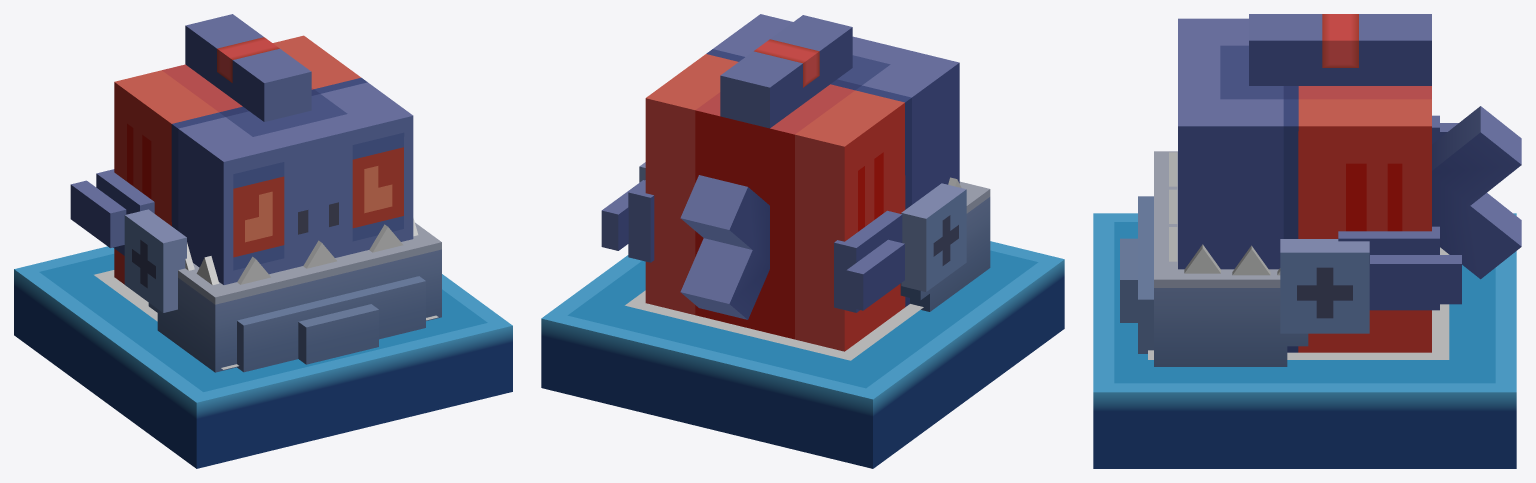
Rendered from Tower_Toes_LVL4.fbx.
The picture shows the model from 3 angles, left to right: view 1: azimuth 30°, elevation 25°; view 2: azimuth 150°, elevation 25°; view 3: azimuth 270°, elevation 25°; orthographic projection. The views are drawn at different scales.
Visible parts, largest first — view 1: Base, Body, Jaw, Fin_03, Screw1, Fin_02, Shadow; view 2: Base, Body, RearFin, Fin_03, Screw1, Fin_02, Jaw, Fin_01, Shadow; view 3: Base, Body, Jaw, Fin_03, RearFin, Screw2, Fin_01, Shadow.
Boxes of the visible parts, x1,y1,x2,y2 form: Base: (14, 246, 512, 468); Body: (114, 35, 413, 284); Jaw: (148, 218, 441, 372); Fin_03: (185, 14, 311, 121); Screw1: (124, 209, 186, 312); Fin_02: (70, 169, 154, 255); Shadow: (94, 270, 438, 369); Base: (541, 241, 1064, 468); Body: (645, 14, 959, 351); RearFin: (680, 175, 769, 319); Fin_03: (720, 15, 852, 128); Screw1: (901, 183, 966, 291); Fin_02: (834, 210, 904, 312); Jaw: (900, 177, 990, 311); Fin_01: (601, 180, 654, 262); Shadow: (625, 290, 923, 360); Base: (1093, 213, 1516, 468); Body: (1178, 18, 1431, 352); Jaw: (1120, 151, 1308, 366); Fin_03: (1249, 14, 1431, 85); RearFin: (1432, 106, 1521, 279); Screw2: (1280, 239, 1369, 333); Fin_01: (1338, 226, 1461, 310); Shadow: (1148, 247, 1449, 359).
Size of the model in its own units: 100 by 91.76 by 101.
